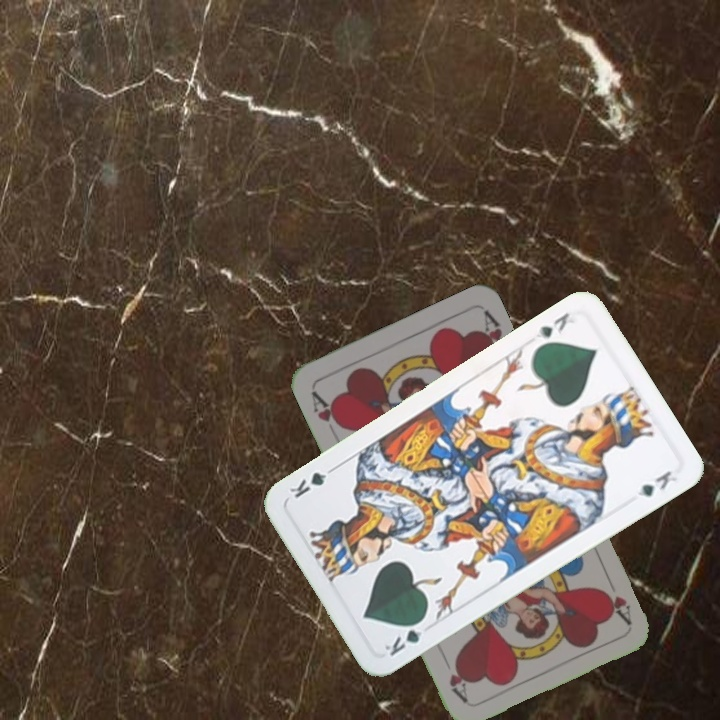GK: (381, 614, 428, 659), (532, 308, 577, 343)
HA: (595, 570, 634, 626), (307, 387, 347, 433)
